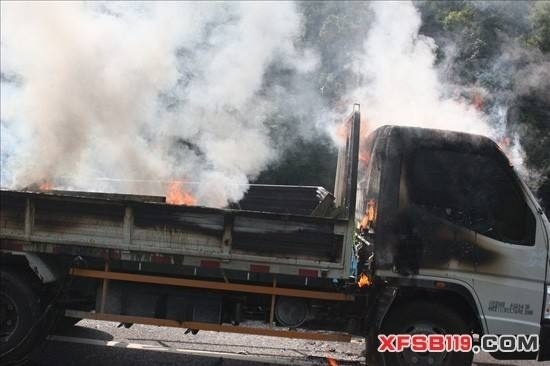fire: (333, 109, 378, 158), (161, 175, 201, 207), (357, 198, 378, 232), (34, 174, 58, 192), (354, 269, 373, 287)
